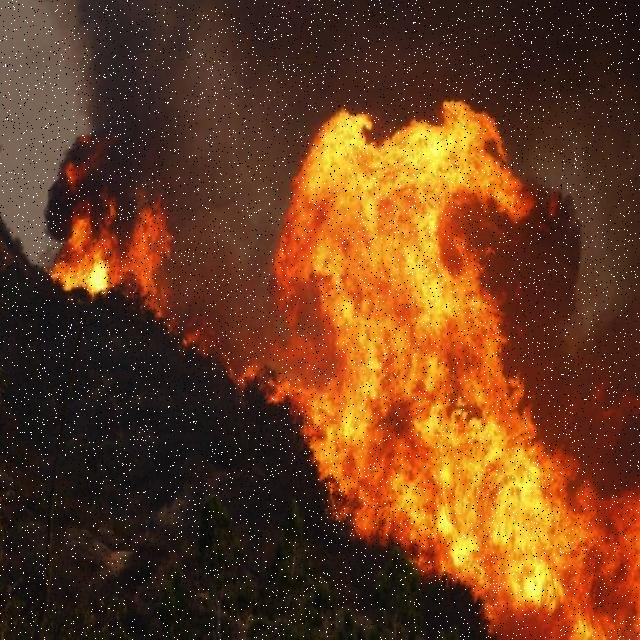fire: (299, 105, 488, 323), (402, 321, 546, 542), (573, 458, 638, 630), (47, 204, 170, 286)
